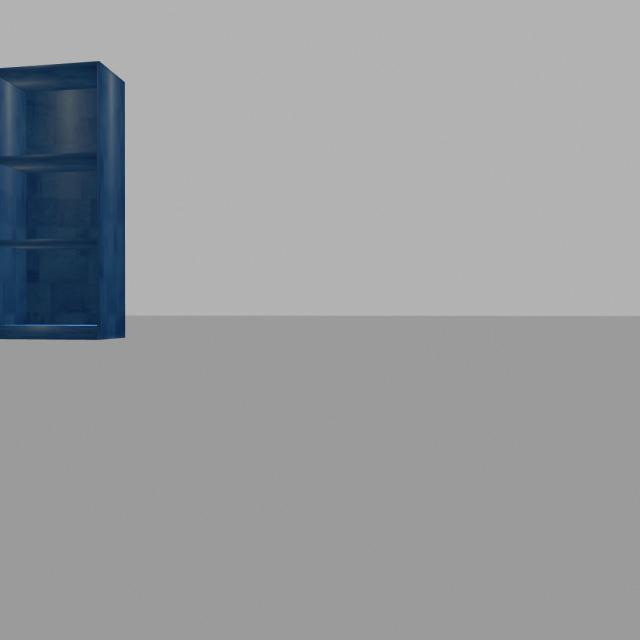shelf: (0, 42, 140, 362)
